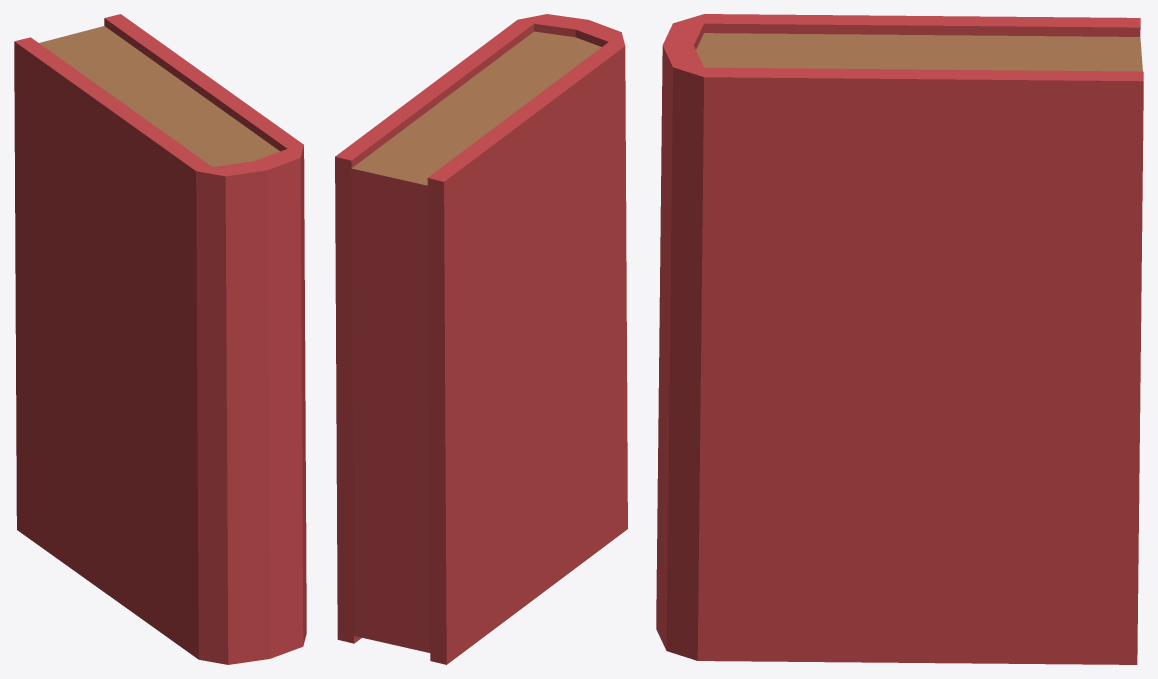
The model's file is Libro_4.fbx.
3 views of the same model, side by side, from view 1: azimuth 30°, elevation 25°; view 2: azimuth 150°, elevation 25°; view 3: azimuth 270°, elevation 25° (orthographic). The views are drawn at different scales.
Visible parts, largest first — view 1: Cube.022; view 2: Cube.022; view 3: Cube.022.
Part boxes in pixels (bbox=[...]): Cube.022: bbox=[14, 14, 306, 664]; Cube.022: bbox=[335, 14, 627, 664]; Cube.022: bbox=[656, 14, 1143, 664].
Bounding box in the file's own units: 8.4 × 36.43 × 27.37.
